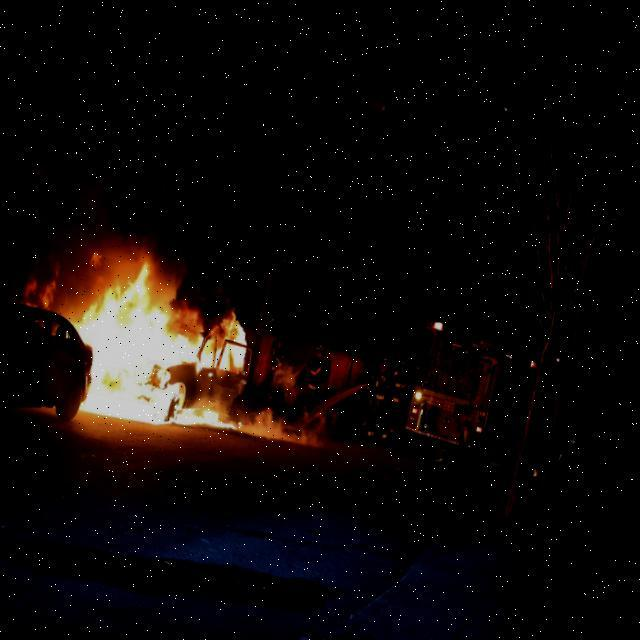Fire: (76, 248, 267, 424)
